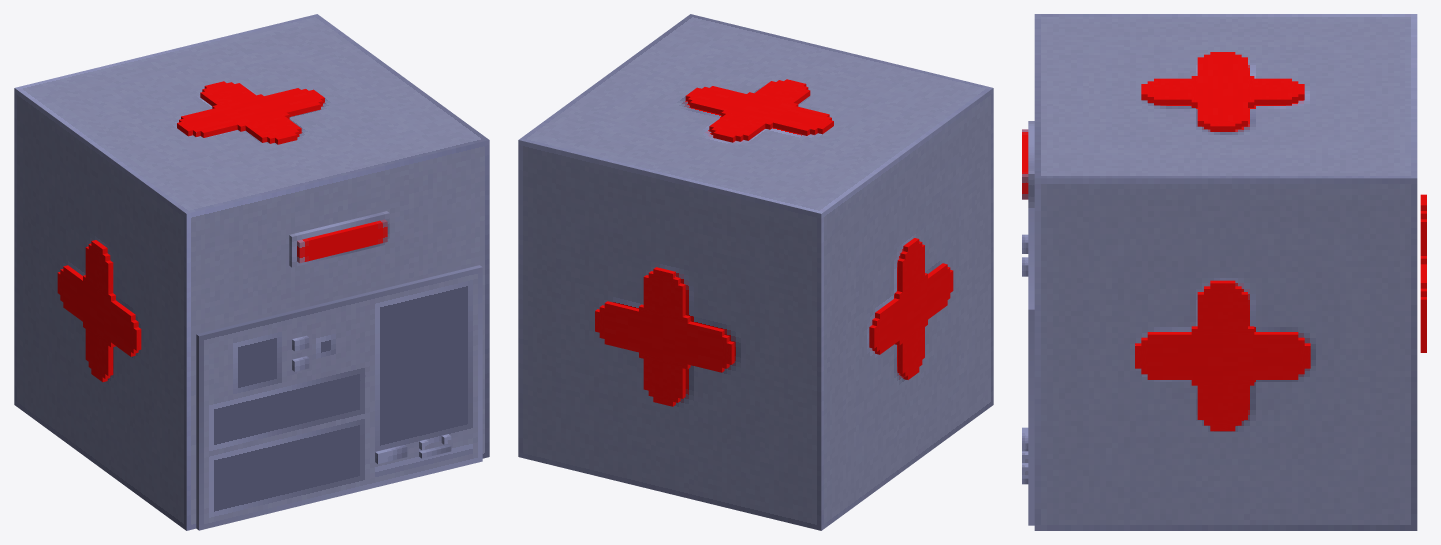
The model's file is Laser Crafting Station.obj.
The picture shows the model from 3 angles, left to right: view 1: azimuth 30°, elevation 25°; view 2: azimuth 150°, elevation 25°; view 3: azimuth 270°, elevation 25°; orthographic projection. The views are drawn at different scales.
Visible parts, largest first — view 1: Base Block, Control Panel, Redstone Lens, Lens Bezel; view 2: Base Block, Redstone Lens; view 3: Base Block, Redstone Lens, Control Panel, Lens Bezel.
Part boxes in pixels (bbox=[...]): Base Block: bbox=[14, 14, 489, 530]; Control Panel: bbox=[196, 265, 482, 530]; Redstone Lens: bbox=[57, 81, 387, 382]; Lens Bezel: bbox=[289, 211, 389, 267]; Base Block: bbox=[518, 14, 993, 530]; Redstone Lens: bbox=[595, 79, 953, 406]; Base Block: bbox=[1034, 14, 1417, 530]; Redstone Lens: bbox=[1022, 52, 1426, 431]; Control Panel: bbox=[1028, 208, 1034, 525]; Lens Bezel: bbox=[1028, 121, 1034, 207].
Bounding box in the file's own units: 1 × 1 × 1.01.
2 materials, 2 textured.
